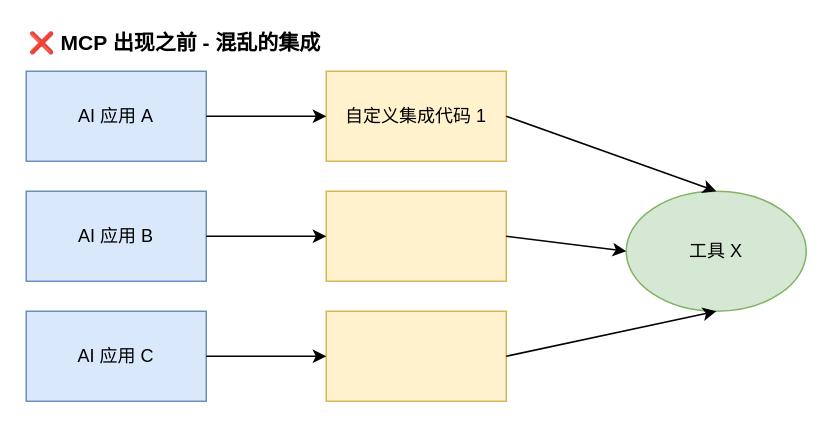
The diagram is 833 pixels wide and 428 high, and some of its shapes have lost their labels. Here are the shapes that lost their labels. From the top down, the centre of each, then its label:
At [415,235]: "自定义集成代码 2".
At [415,355]: "自定义集成代码 3".
